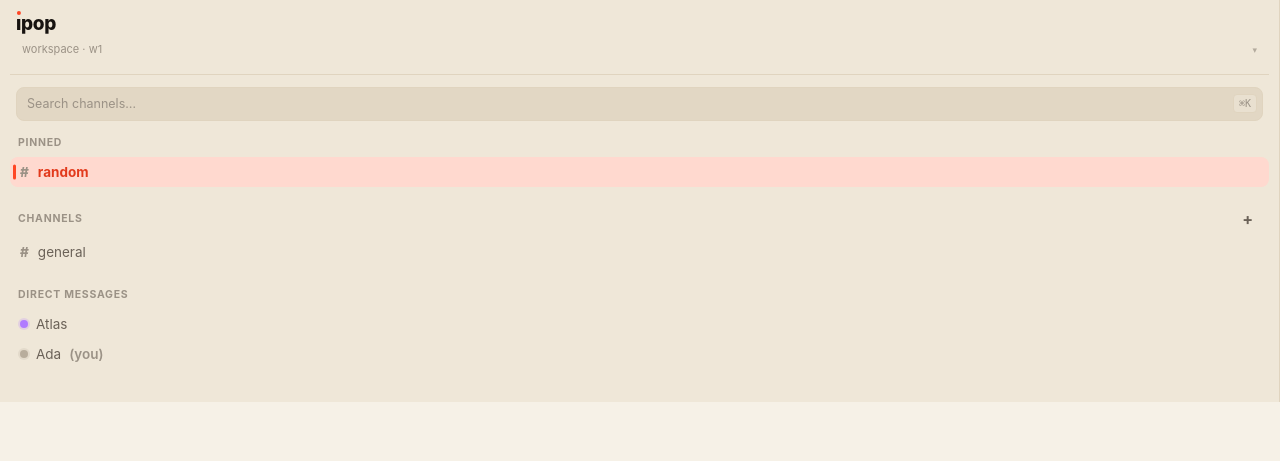
Test case: ChannelSidebar › creates a new channel from the composer
This screenshot has width=1280, height=461.
Click the button named "add channel" at coordinates (1248, 219), box 1234,207 -> 1261,231
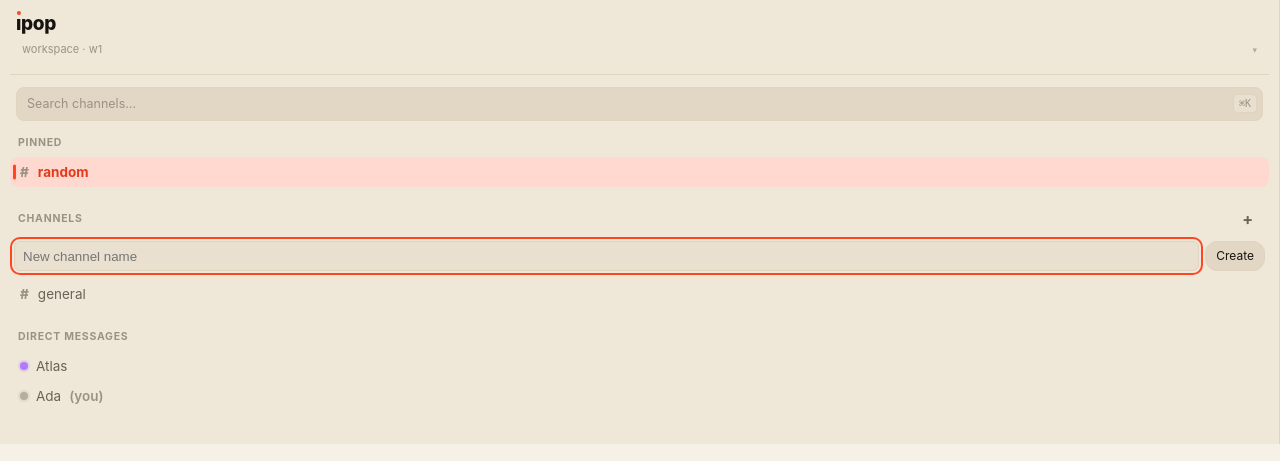
Type "deploys" into the field with placeholder "New channel name" at coordinates (607, 256), box 14,241 -> 1199,271
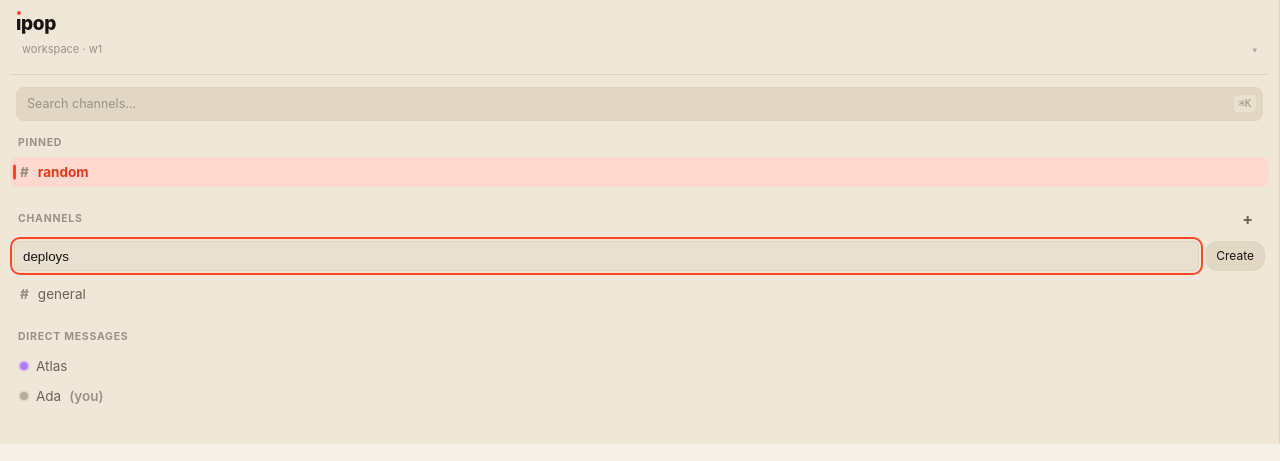
Click the button "Create" at coordinates (1235, 256), box 1205,241 -> 1265,271
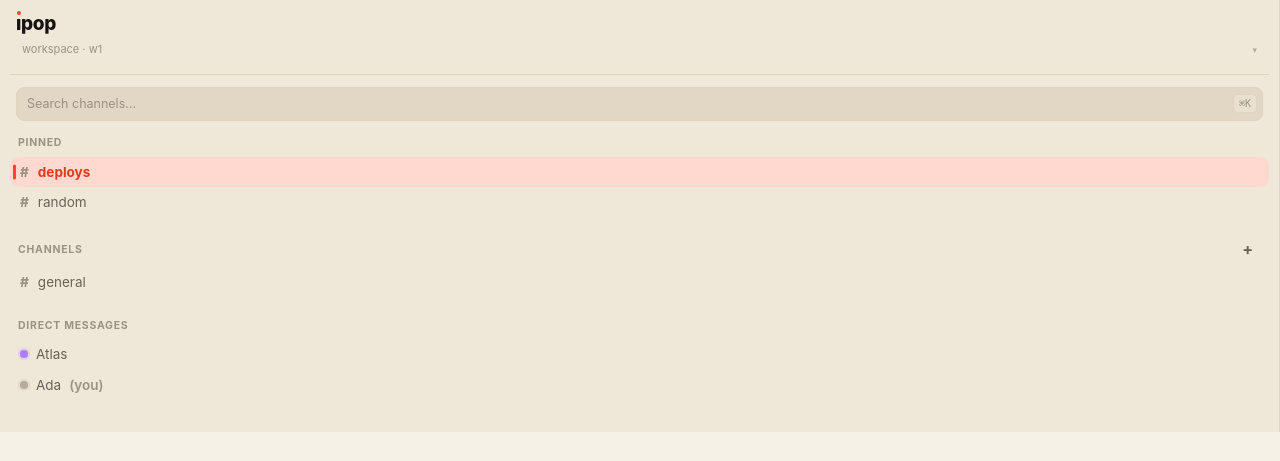
Now the button "# deploys" is shown, box 10,157 -> 1269,187
